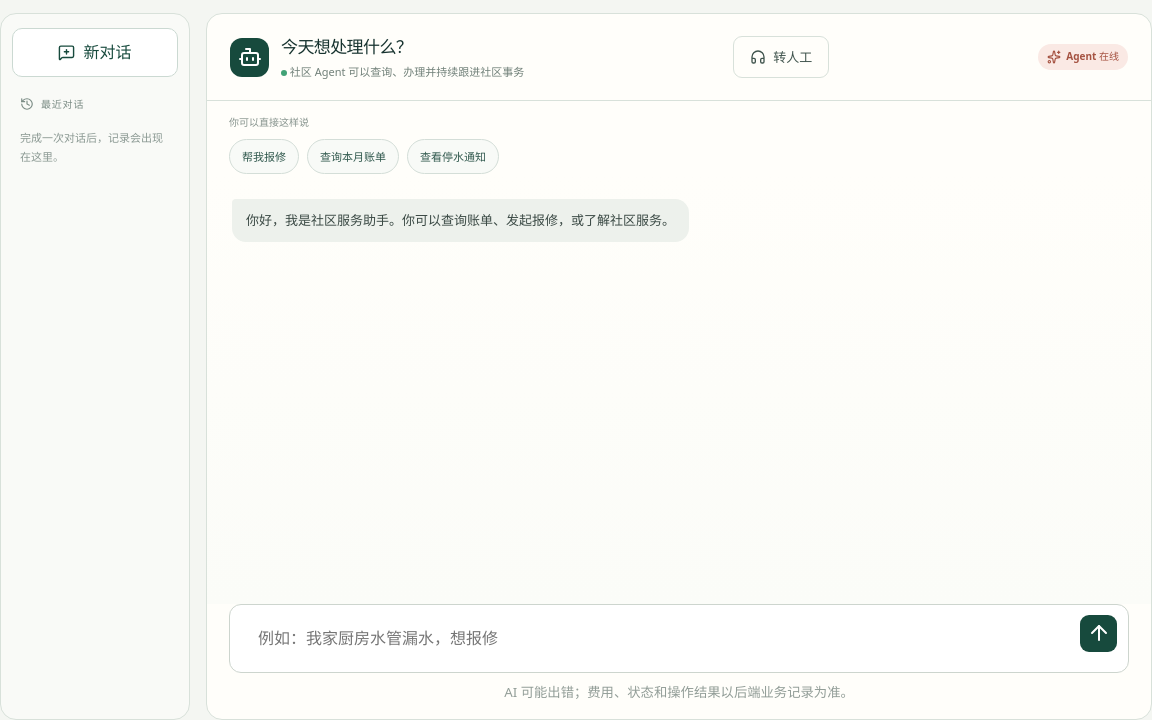
Test: Agent home flow › renders inspection facts by entity_type without mislabeling them as announcements
This screenshot has width=1152, height=720.
(page scrolled)
Type "巡检任务都完成了吗" into the field named "发送给社区智能体" at (658, 638), box [246,615,1070,662]
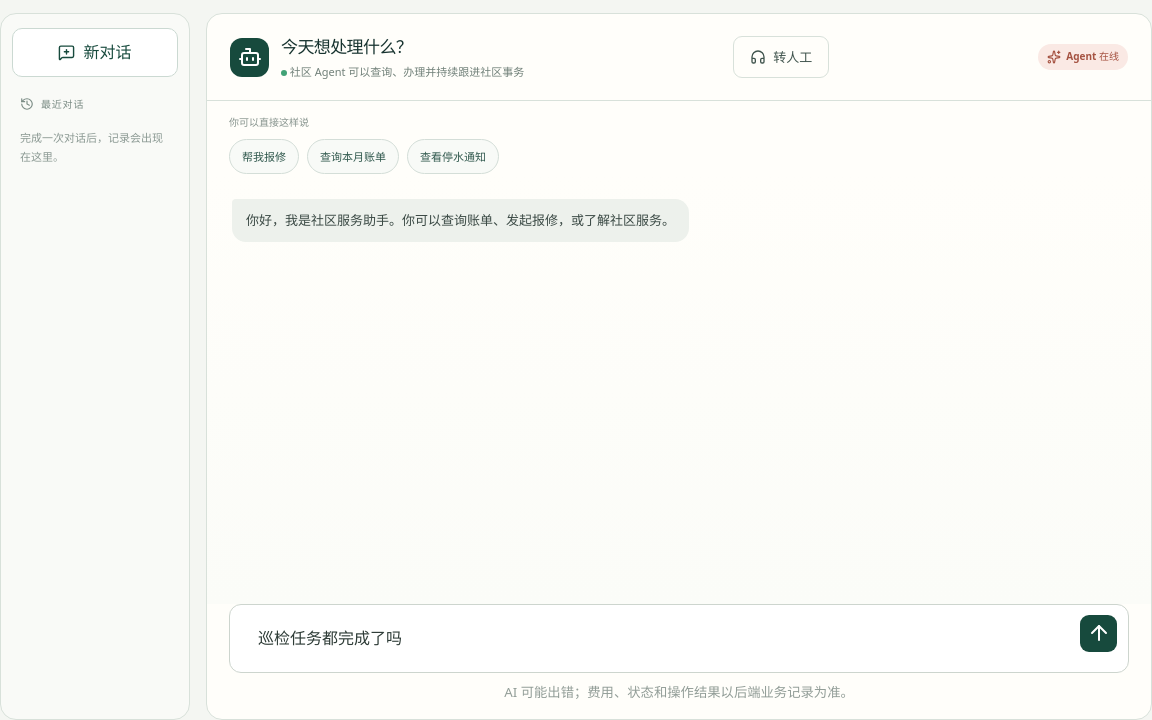
Click the button named "发送" at (1098, 633), box [1080,615,1117,652]
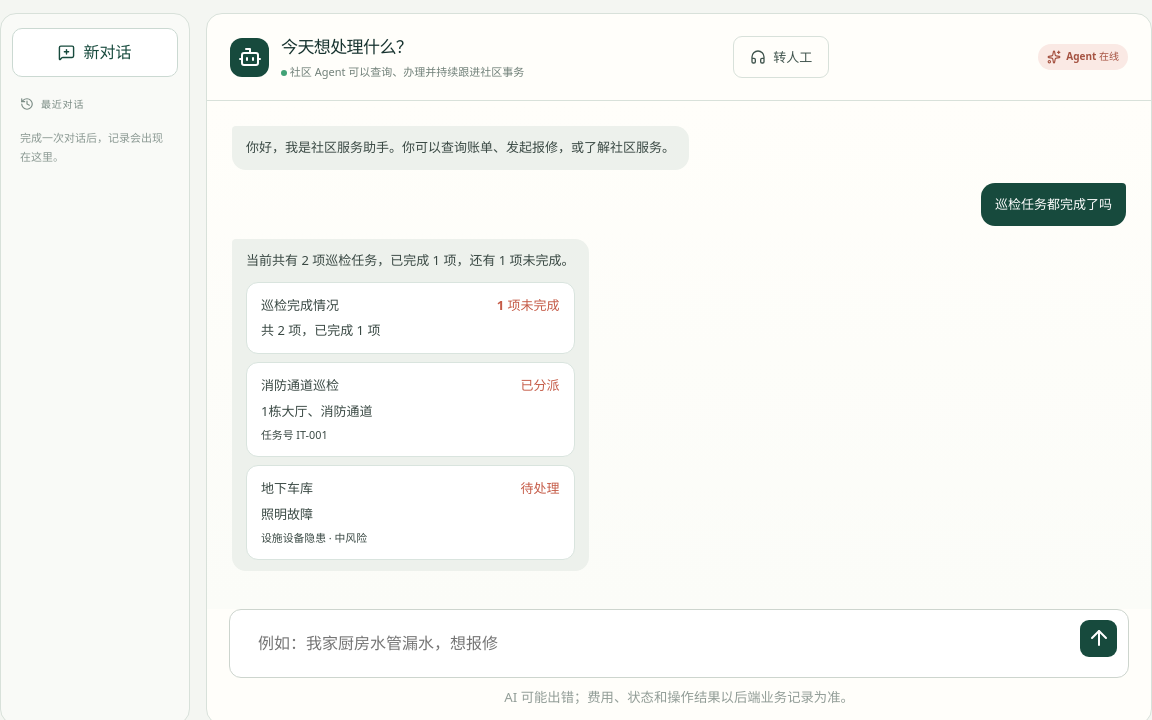
Expected: the text "巡检完成情况" is shown, [261,296,339,314]
Expected: the text "消防通道巡检" is shown, [261,376,339,394]
Expected: the text "地下车库" is shown, [261,479,313,497]
